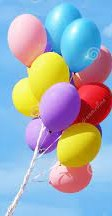Balloon: (60, 18, 101, 70), (7, 14, 47, 66), (57, 122, 101, 166), (40, 82, 80, 130), (30, 52, 69, 99), (48, 163, 92, 192)
